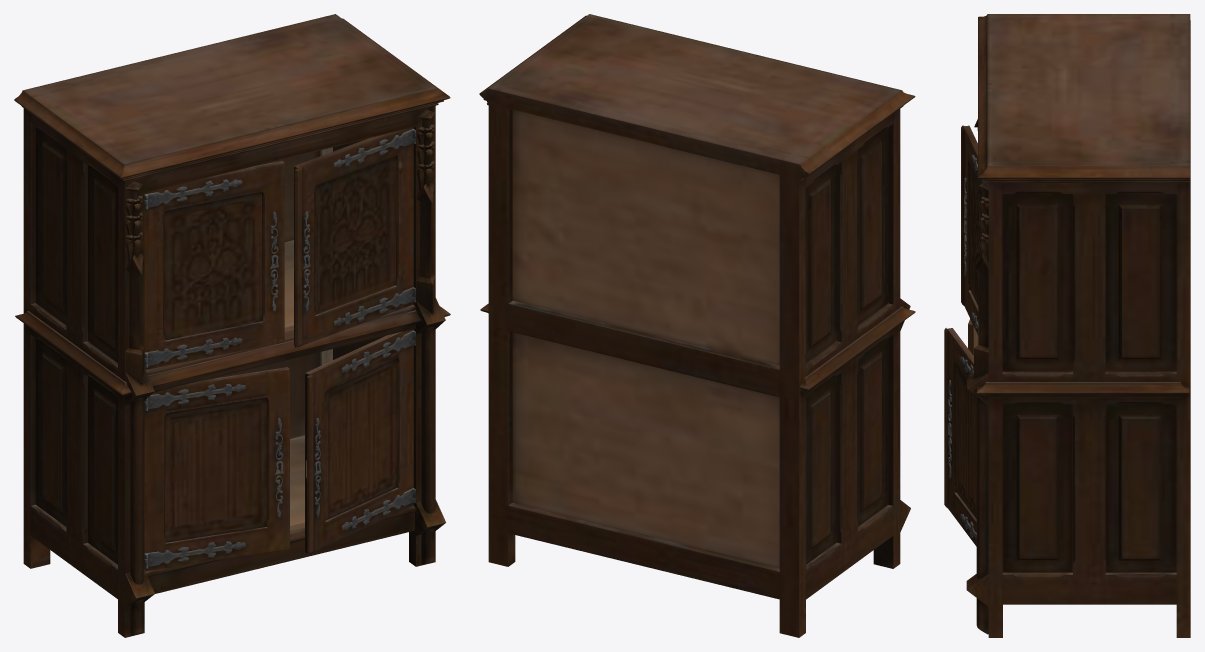
The picture shows the model from 3 angles, left to right: view 1: azimuth 30°, elevation 25°; view 2: azimuth 150°, elevation 25°; view 3: azimuth 270°, elevation 25°; orthographic projection.
Parts seen in each view (by area): view 1: GothicCabinet_01_cabinet, GothicCabinet_01_door3, GothicCabinet_01_door1, GothicCabinet_01_door2, GothicCabinet_01_door4; view 2: GothicCabinet_01_cabinet; view 3: GothicCabinet_01_cabinet, GothicCabinet_01_door4, GothicCabinet_01_door2.
Boxes of the visible parts, x1,y1,x2,y2 form: GothicCabinet_01_cabinet: (14, 14, 450, 637); GothicCabinet_01_door3: (144, 367, 289, 571); GothicCabinet_01_door1: (144, 160, 284, 369); GothicCabinet_01_door2: (294, 127, 415, 347); GothicCabinet_01_door4: (305, 329, 415, 554); GothicCabinet_01_cabinet: (479, 14, 915, 637); GothicCabinet_01_cabinet: (966, 14, 1190, 637); GothicCabinet_01_door4: (944, 328, 976, 546); GothicCabinet_01_door2: (961, 125, 986, 335).
Size of the model in its own units: 1.72 by 2.36 by 1.12.
1 material, 1 textured.
